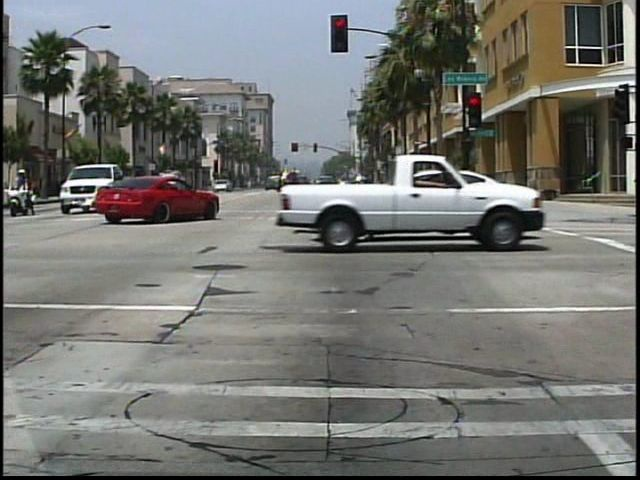person: (5, 167, 38, 218)
